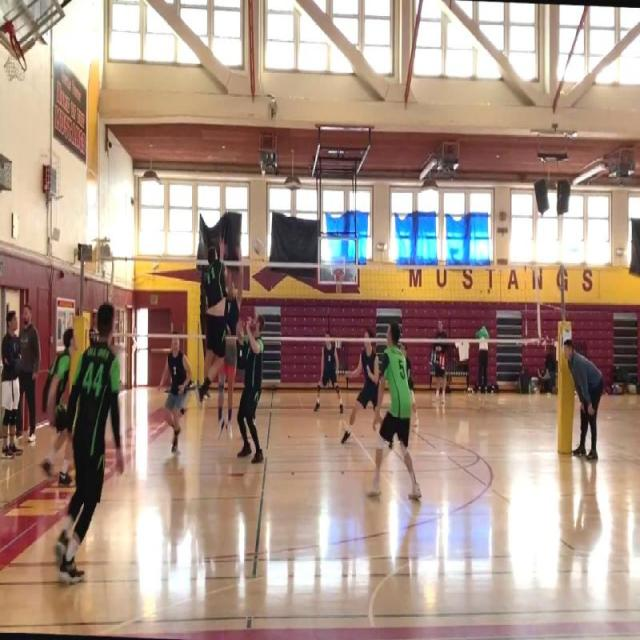volleyball: (254, 237, 263, 253)
